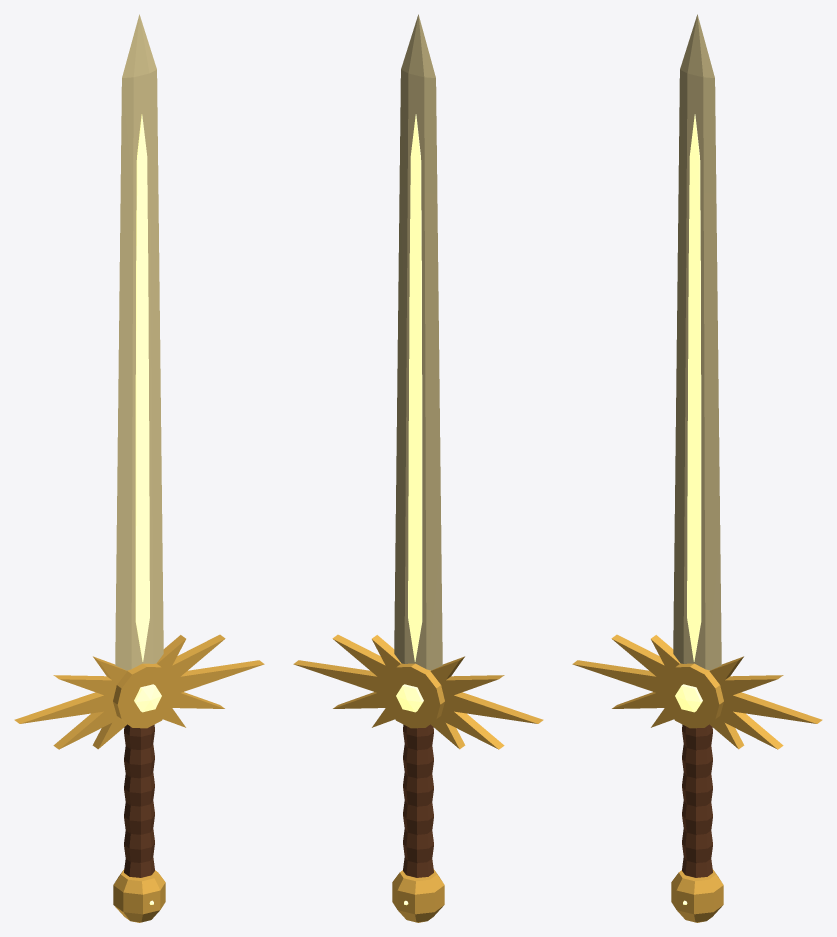
File: W2S_SunSword.fbx
3 renders of one model, left to right at view 1: azimuth 30°, elevation 25°; view 2: azimuth 150°, elevation 25°; view 3: azimuth 330°, elevation 25°, orthographic.
Parts seen in each view (by area): view 1: W2S_SunSword; view 2: W2S_SunSword; view 3: W2S_SunSword.
Part boxes in pixels (left/top/right/bottom): W2S_SunSword: left=14, top=14, right=264, bottom=922; W2S_SunSword: left=293, top=14, right=543, bottom=922; W2S_SunSword: left=572, top=14, right=822, bottom=922.
Size of the model in its own units: 30 by 106 by 6.2.
